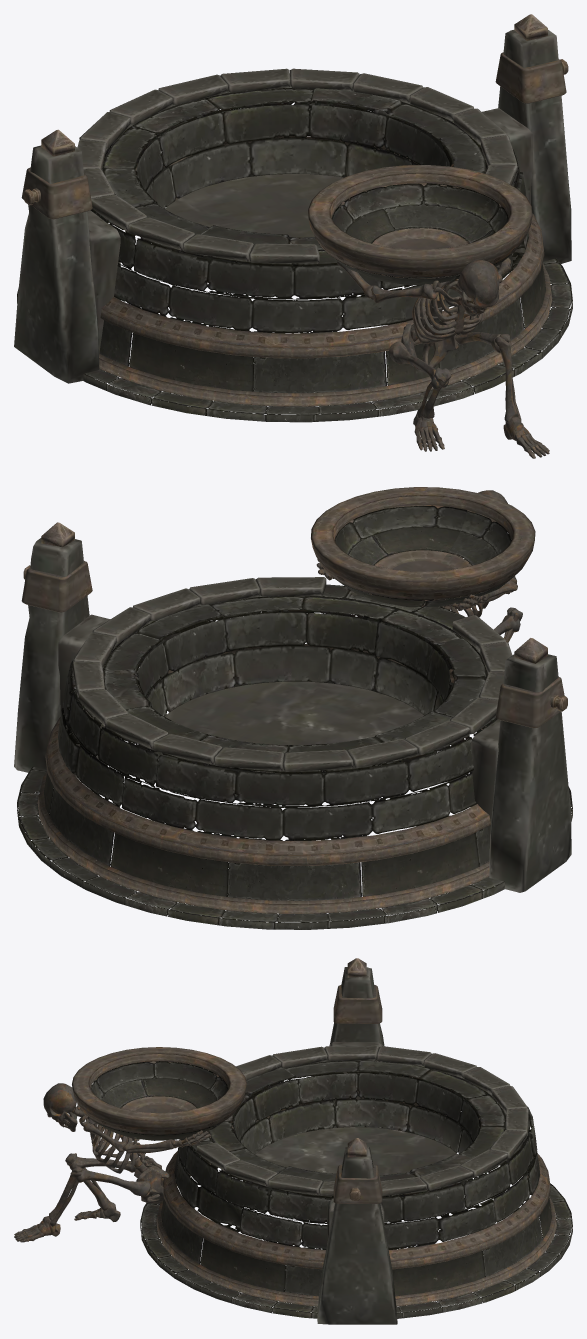
The picture shows the model from 3 angles, top to bottom: view 1: azimuth 30°, elevation 25°; view 2: azimuth 150°, elevation 25°; view 3: azimuth 270°, elevation 25°; orthographic projection. The views are drawn at different scales.
Visible parts, largest first — view 1: SM_DR_Statue_HolyWaterFont_A_01_LOD0; view 2: SM_DR_Statue_HolyWaterFont_A_01_LOD0; view 3: SM_DR_Statue_HolyWaterFont_A_01_LOD0.
Boxes of the visible parts, left/top/right/bottom form: SM_DR_Statue_HolyWaterFont_A_01_LOD0: left=14, top=14, right=572, bottom=458; SM_DR_Statue_HolyWaterFont_A_01_LOD0: left=14, top=487, right=572, bottom=929; SM_DR_Statue_HolyWaterFont_A_01_LOD0: left=14, top=958, right=572, bottom=1324.
Bounding box in the file's own units: 2.89 × 1.21 × 3.34.
Materials: 4 (4 with a texture image).
